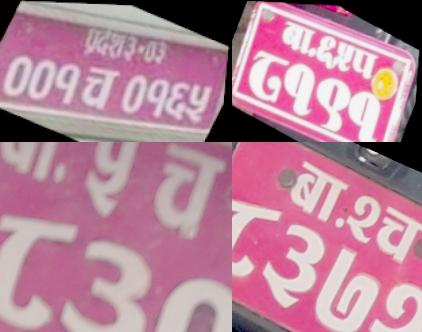0: (127, 252, 232, 332), (22, 54, 66, 104), (0, 50, 42, 100), (116, 70, 156, 116), (140, 37, 162, 62)
1: (275, 54, 325, 119), (340, 83, 394, 142), (44, 58, 92, 107), (138, 71, 179, 118)
2: (354, 261, 422, 332), (333, 182, 393, 249)
3: (38, 222, 184, 332), (249, 211, 341, 316), (117, 32, 144, 61), (151, 36, 173, 64)
5: (59, 142, 160, 227), (179, 77, 217, 124), (331, 37, 360, 75)
6: (159, 78, 196, 119), (312, 29, 342, 68)
7: (303, 237, 399, 332)
8: (0, 188, 97, 332), (232, 182, 288, 287), (242, 44, 294, 104)
9: (306, 69, 360, 134)
ba: (276, 153, 355, 227), (0, 142, 94, 199), (278, 16, 316, 56)
cha: (127, 142, 232, 248), (364, 196, 422, 270), (72, 60, 126, 114)
pa: (348, 43, 382, 80)
